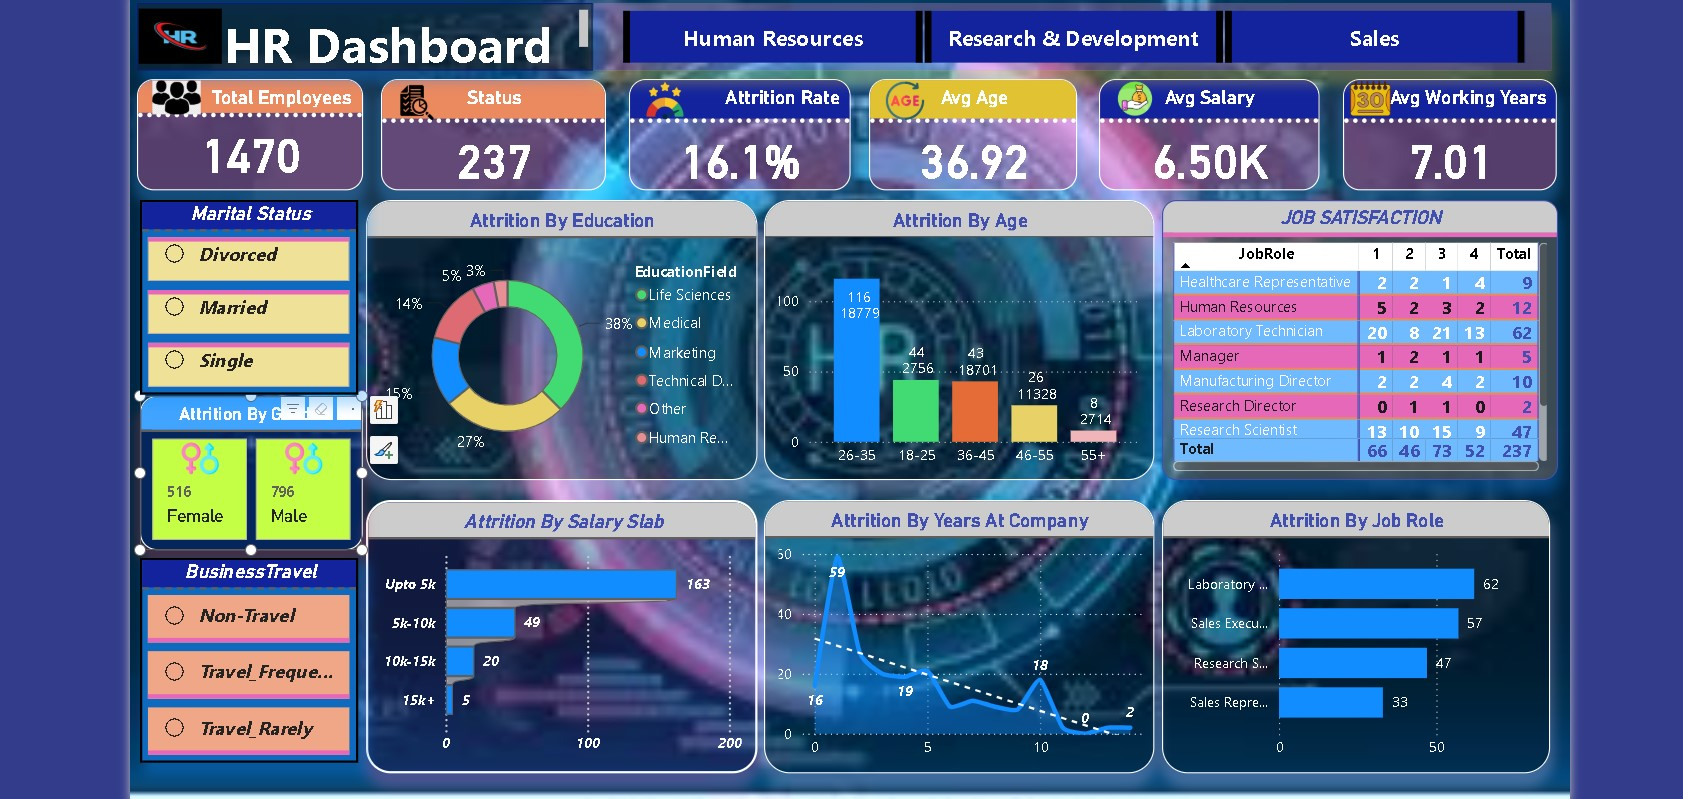

This screenshot's page, from the dashboard's own definition file:
{"tool":"powerbi","page":{"name":"Page 1","canvas":[1280,720],"ordinal":0},"visuals":[{"type":"card","title":"Total Employees","fields":{"Values":["CountNonNull(HR_Analytics.EmpID)"]},"box":[6,76.6,200.6,98.8],"z":0},{"type":"card","title":"Status","fields":{"Values":["Sum(HR_Analytics.AttritionCount)"]},"box":[222.7,76.6,199.6,98.8],"z":1000},{"type":"card","title":"Attrition Rate","fields":{"Values":["HR_Analytics.AttritionRate"]},"box":[443.5,76.6,196.5,98.8],"z":2000},{"type":"card","title":"Avg Age","fields":{"Values":["Avg(HR_Analytics.Age)"]},"box":[657.1,76.6,185.4,98.8],"z":3000},{"type":"card","title":"Avg Salary","fields":{"Values":["Avg(HR_Analytics.MonthlyIncome)"]},"box":[861.7,76.6,195.5,98.8],"z":4000},{"type":"card","title":"Avg Working Years","fields":{"Values":["Avg(HR_Analytics.YearsAtCompany)"]},"box":[1078.4,76.6,190.5,98.8],"z":5000},{"type":"donutChart","title":"Attrition By Education","fields":{"Category":["HR_Analytics.EducationField"],"Y":["Sum(HR_Analytics.AttritionCount)"]},"box":[209.6,184.4,347.7,248.9],"z":6000},{"type":"columnChart","title":"Attrition By Age","fields":{"Category":["HR_Analytics.AgeGroup"],"Y":["Sum(HR_Analytics.AttritionCount)"]},"box":[563.4,184.4,346.7,248.9],"z":7000},{"type":"pivotTable","title":"JOB SATISFACTION","fields":{"Rows":["HR_Analytics.JobRole"],"Columns":["HR_Analytics.JobSatisfaction"],"Values":["Sum(HR_Analytics.AttritionCount)"]},"box":[917.2,184.4,351.7,248.9],"z":8000},{"type":"barChart","title":"Attrition By Salary Slab","fields":{"Category":["HR_Analytics.SalarySlab"],"Y":["Sum(HR_Analytics.AttritionCount)"]},"box":[209.8,450.7,348,242.7],"z":9000},{"type":"barChart","title":"Attrition By Job Role","fields":{"Y":["Sum(HR_Analytics.AttritionCount)"],"Category":["HR_Analytics.JobRole"]},"box":[917.3,450.7,344.9,242.7],"z":10000},{"type":"areaChart","title":"Attrition By Years At Company","fields":{"Category":["HR_Analytics.YearsAtCompany"],"Y":["Sum(HR_Analytics.AttritionCount)"]},"box":[563.6,450.7,346.7,242.7],"z":11000},{"type":"advancedSlicerVisual","title":"Attrition By Gender","fields":{"Values":["HR_Analytics.Gender"],"Label":["CountNonNull(HR_Analytics.AttritionCount)"]},"box":[9.1,357.8,197.5,137.1],"z":12000},{"type":"slicer","fields":{"Values":["HR_Analytics.Department"]},"box":[412,8.9,850.7,60],"z":13000},{"type":"textbox","box":[6.2,8.9,405.3,59.6],"z":14000},{"type":"advancedSlicerVisual","fields":{"Values":["HR_Analytics.MaritalStatus"]},"box":[9.1,184.4,193.5,173.4],"z":15000},{"type":"image","box":[9.1,72.6,64.5,40.3],"z":15001},{"type":"image","box":[861.7,72.6,63.5,42.3],"z":15002},{"type":"image","box":[657.1,73.6,63.5,44.3],"z":15003},{"type":"image","box":[443.5,73.6,63.5,44.3],"z":15004},{"type":"image","box":[222.7,76.6,63.5,42.3],"z":15005},{"type":"image","box":[1071.4,69.5,63.5,49.4],"z":15006},{"type":"advancedSlicerVisual","fields":{"Values":["HR_Analytics.BusinessTravel"]},"box":[9.1,501.9,193.5,182.4],"z":15007},{"type":"image","box":[3,9.1,83.7,59.5],"z":15008}]}

Visuals, with their boxes in screenshot pixels (x1, y1, x2, y2):
"Total Employees" card: (left=130, top=69, right=357, bottom=181)
"Status" card: (left=375, top=69, right=601, bottom=181)
"Attrition Rate" card: (left=625, top=69, right=848, bottom=181)
"Avg Age" card: (left=867, top=69, right=1077, bottom=181)
"Avg Salary" card: (left=1099, top=69, right=1320, bottom=181)
"Avg Working Years" card: (left=1344, top=69, right=1560, bottom=181)
"Attrition By Education" donutChart: (left=360, top=191, right=754, bottom=473)
"Attrition By Age" columnChart: (left=761, top=191, right=1154, bottom=473)
"JOB SATISFACTION" pivotTable: (left=1162, top=191, right=1560, bottom=473)
"Attrition By Salary Slab" barChart: (left=360, top=493, right=755, bottom=768)
"Attrition By Job Role" barChart: (left=1162, top=493, right=1552, bottom=768)
"Attrition By Years At Company" areaChart: (left=761, top=493, right=1154, bottom=768)
"Attrition By Gender" advancedSlicerVisual: (left=133, top=388, right=357, bottom=543)
slicer - HR_Analytics.Department: (left=589, top=0, right=1553, bottom=61)
textbox: (left=130, top=0, right=589, bottom=60)
advancedSlicerVisual - HR_Analytics.MaritalStatus: (left=133, top=191, right=352, bottom=388)
image: (left=133, top=65, right=206, bottom=110)
image: (left=1099, top=65, right=1171, bottom=113)
image: (left=867, top=66, right=939, bottom=116)
image: (left=625, top=66, right=697, bottom=116)
image: (left=375, top=69, right=447, bottom=117)
image: (left=1336, top=61, right=1408, bottom=117)
advancedSlicerVisual - HR_Analytics.BusinessTravel: (left=133, top=551, right=352, bottom=758)
image: (left=126, top=0, right=221, bottom=60)
